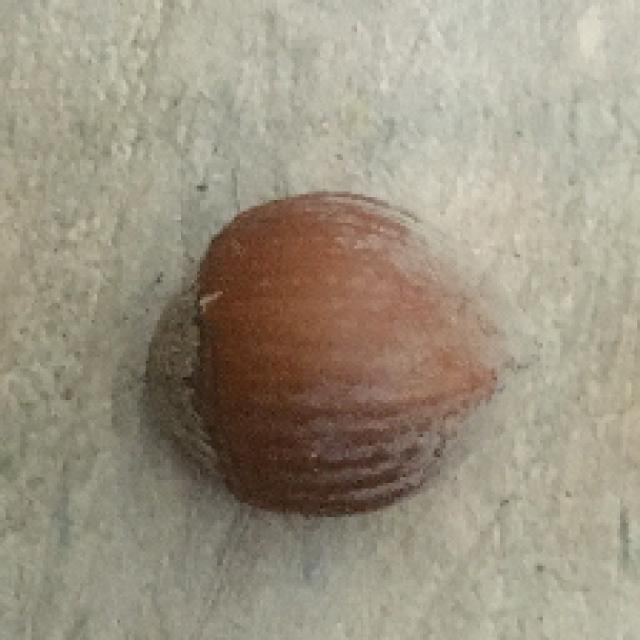qualityHazelnut: (134, 183, 546, 531)
